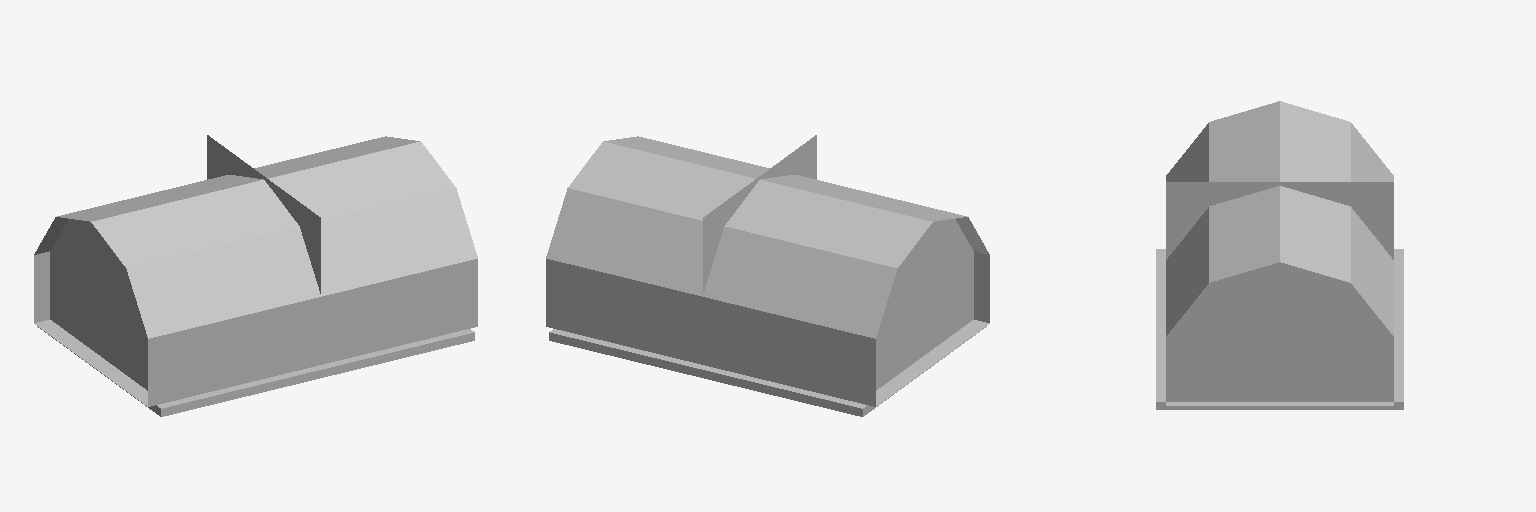
Rendered from lobster_trap_3.obj.
The picture shows the model from 3 angles: view 1: azimuth 30°, elevation 25°; view 2: azimuth 150°, elevation 25°; view 3: azimuth 270°, elevation 25°; orthographic projection.
Parts seen in each view (by area): view 1: cover_inside, cover_outside, underneath, middle; view 2: cover_inside, cover_outside, underneath, middle; view 3: cover_inside, cover_outside, middle, underneath.
Part boxes in pixels (bbox=[...]): cover_inside: bbox=[34, 139, 477, 406]; cover_outside: bbox=[34, 136, 477, 405]; underneath: bbox=[37, 326, 474, 416]; middle: bbox=[207, 135, 320, 293]; cover_inside: bbox=[546, 136, 989, 406]; cover_outside: bbox=[546, 137, 989, 406]; underneath: bbox=[549, 326, 986, 416]; middle: bbox=[703, 135, 816, 293]; cover_inside: bbox=[1166, 101, 1393, 405]; cover_outside: bbox=[1166, 103, 1393, 405]; middle: bbox=[1166, 182, 1393, 259]; underneath: bbox=[1156, 249, 1403, 409].
Bounding box in the file's own units: 1.25 × 0.5625 × 0.8125.